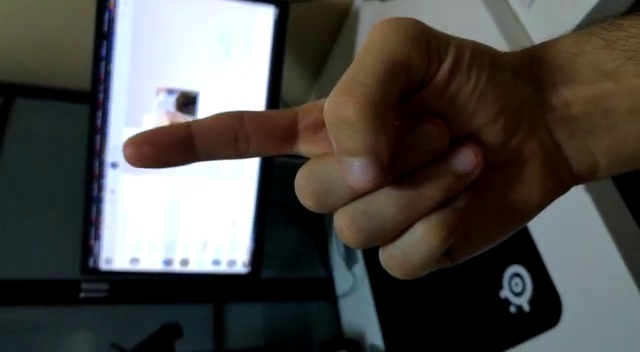One: (89, 7, 608, 312)
